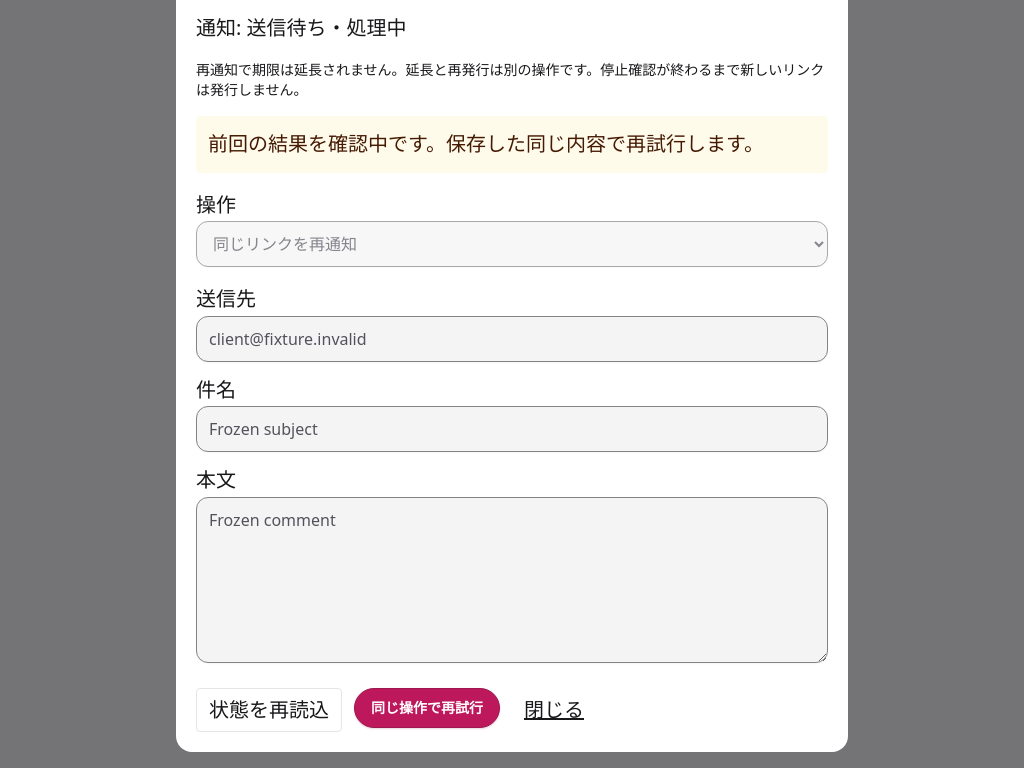
Test: payment link operation recovery › reconciles a pending operation with the manual state reload
(page scrolled)
Click the button "状態を再読込" at x=269, y=710, box [196,688,342,732]
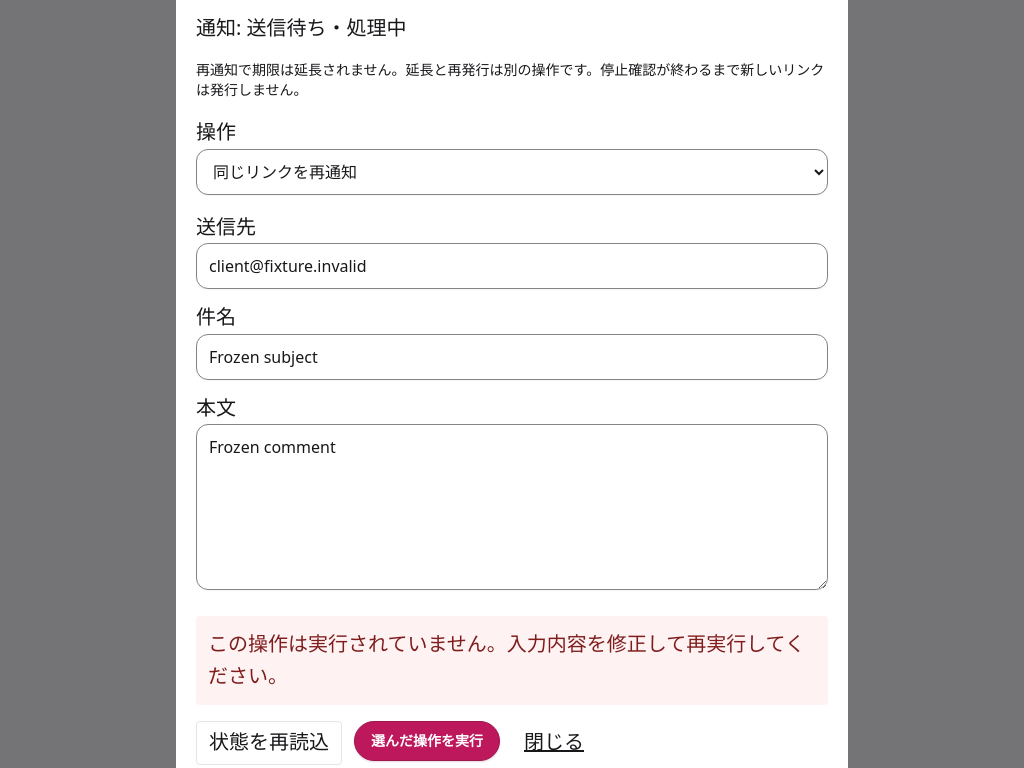
Expected: the message "この操作は実行されていません。入力内容を修正して再実行してください。" is shown, [196,616,828,704]
